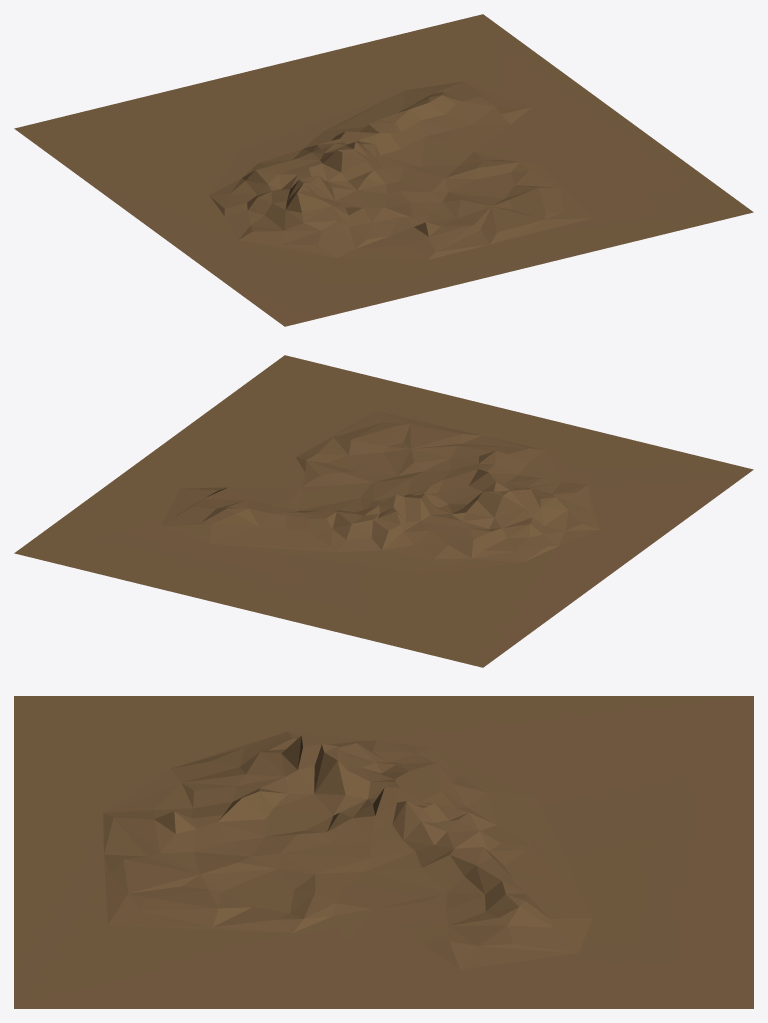
The model's file is browncapC.fbx.
3 renders of one model, top to bottom at view 1: azimuth 30°, elevation 25°; view 2: azimuth 150°, elevation 25°; view 3: azimuth 270°, elevation 25°, orthographic. The views are drawn at different scales.
Visible parts, largest first — view 1: Plane.002; view 2: Plane.002; view 3: Plane.002.
Boxes of the visible parts, <box> form: Plane.002: <box>14,14,753,326</box>; Plane.002: <box>14,355,753,667</box>; Plane.002: <box>14,696,753,1008</box>.
Size of the model in its own units: 200 by 11.83 by 200.
